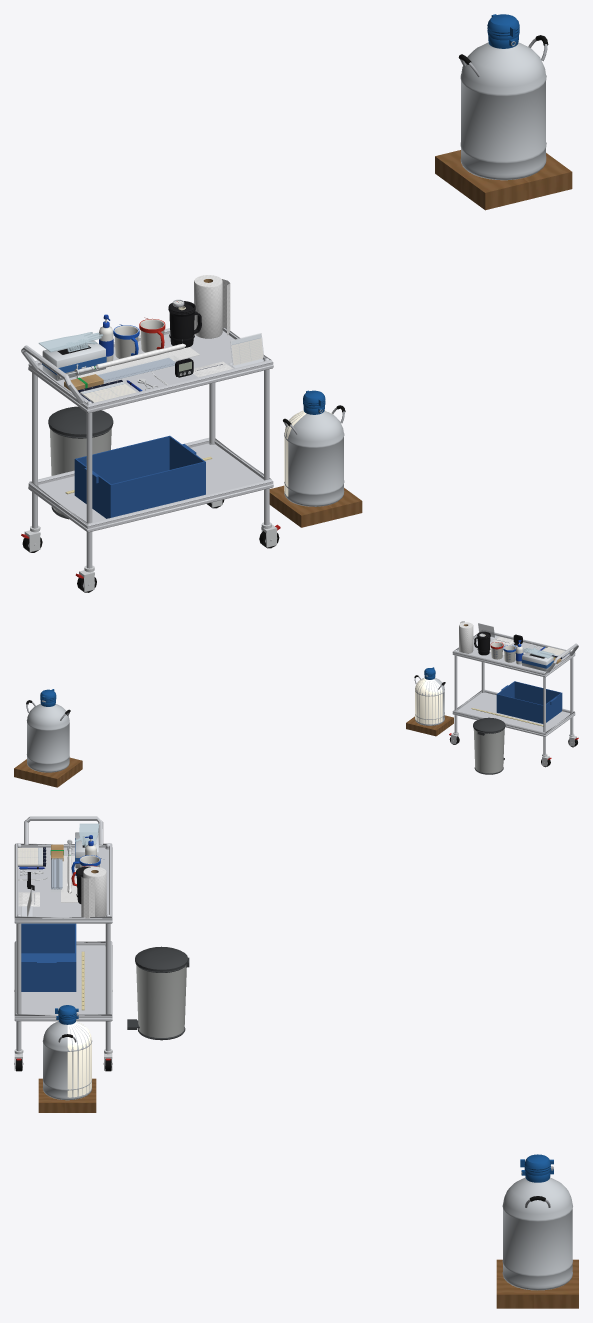
File: ai_kit-e759J2ts.glb
The picture shows the model from 3 angles, top to bottom: view 1: azimuth 30°, elevation 25°; view 2: azimuth 150°, elevation 25°; view 3: azimuth 270°, elevation 25°; orthographic projection. The views are drawn at different scales.
Parts seen in each view (by area): view 1: SET_trolley, ST_tank, SET_kit_box, LN_tank, ST_stand, SET_towel_roll, LN_stand, BIN_waste, SET_glove_box, BIN_waste_lid, SET_sheath_pack, SET_plan_card (+6 smaller); view 2: SET_trolley, ST_tank, SET_kit_box, BIN_waste, LN_cutaway, ST_stand, LN_tank, LN_stand, SET_towel_roll, SET_glove_box, BIN_waste_lid, TH_flask; view 3: SET_trolley, ST_tank, SET_kit_box, BIN_waste, LN_tank, ST_stand, LN_cutaway, SET_towel_roll, LN_stand, BIN_waste_lid.
Boxes of the visible parts, x1,y1,x2,y2 form: SET_trolley: [21, 327, 280, 592]; ST_tank: [458, 35, 548, 180]; SET_kit_box: [74, 435, 205, 518]; LN_tank: [283, 405, 345, 506]; ST_stand: [435, 150, 572, 210]; SET_towel_roll: [194, 275, 230, 338]; LN_stand: [269, 485, 362, 527]; BIN_waste: [49, 427, 111, 519]; SET_glove_box: [42, 340, 106, 380]; BIN_waste_lid: [48, 406, 113, 436]; SET_sheath_pack: [64, 356, 178, 390]; SET_plan_card: [229, 333, 263, 368]; SET_trolley: [449, 630, 578, 767]; ST_tank: [26, 700, 70, 772]; SET_kit_box: [496, 681, 562, 723]; BIN_waste: [473, 728, 504, 774]; LN_cutaway: [415, 678, 442, 725]; ST_stand: [14, 757, 82, 787]; LN_tank: [414, 675, 445, 725]; LN_stand: [406, 715, 453, 736]; SET_towel_roll: [459, 621, 473, 653]; SET_glove_box: [521, 652, 553, 671]; BIN_waste_lid: [473, 717, 505, 732]; TH_flask: [474, 637, 490, 655]; SET_trolley: [14, 816, 112, 1071]; ST_tank: [502, 1166, 572, 1290]; SET_kit_box: [21, 923, 76, 991]; BIN_waste: [136, 957, 189, 1040]; LN_tank: [42, 1013, 92, 1100]; ST_stand: [496, 1259, 578, 1308]; LN_cutaway: [67, 1021, 91, 1099]; SET_towel_roll: [81, 867, 106, 918]; LN_stand: [38, 1078, 96, 1112]; BIN_waste_lid: [135, 946, 188, 971].
Bounding box in the file's own units: 3.83 × 1.09 × 2.88.
72 materials, 13 textured.
